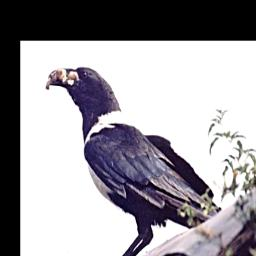Crow: (44, 65, 228, 256)
